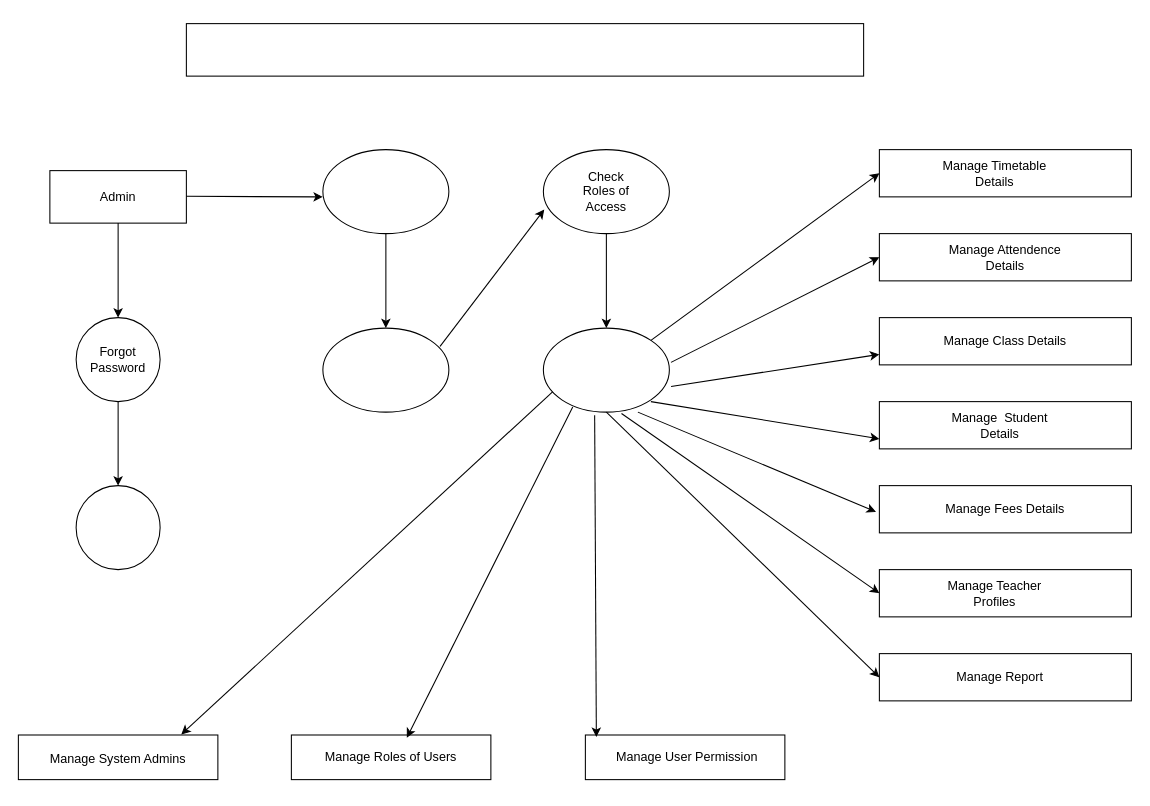
Image size: 1150x806. Some labels were removed from this diagram. The centre of each missing label's shape, as x and y in pixels:
"Check Credentialst" belongs at point (385, 369).
"Login to System" belongs at point (385, 191).
"Manage Madules" belongs at point (605, 369).
"Send Email to User" belongs at point (117, 527).
"Student Information System" belongs at point (524, 49).
